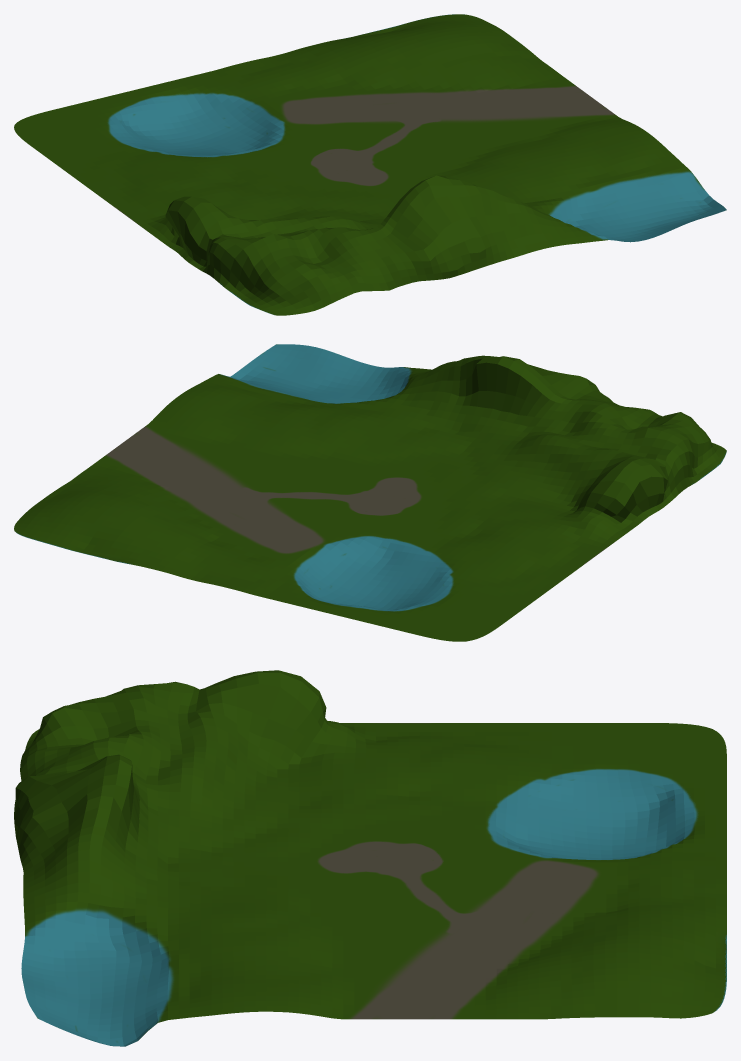
The model's file is Campsite 1 V1.fbx.
3 views of the same model, one above another, from view 1: azimuth 30°, elevation 25°; view 2: azimuth 150°, elevation 25°; view 3: azimuth 270°, elevation 25° (orthographic). The views are drawn at different scales.
Parts seen in each view (by area): view 1: Campsite1; view 2: Campsite1; view 3: Campsite1.
Part boxes in pixels (x1=…): Campsite1: x1=14, y1=14, x2=726, y2=315; Campsite1: x1=14, y1=344, x2=726, y2=641; Campsite1: x1=14, y1=670, x2=726, y2=1046.
Bounding box in the file's own units: 20354 × 20324 × 3713.
